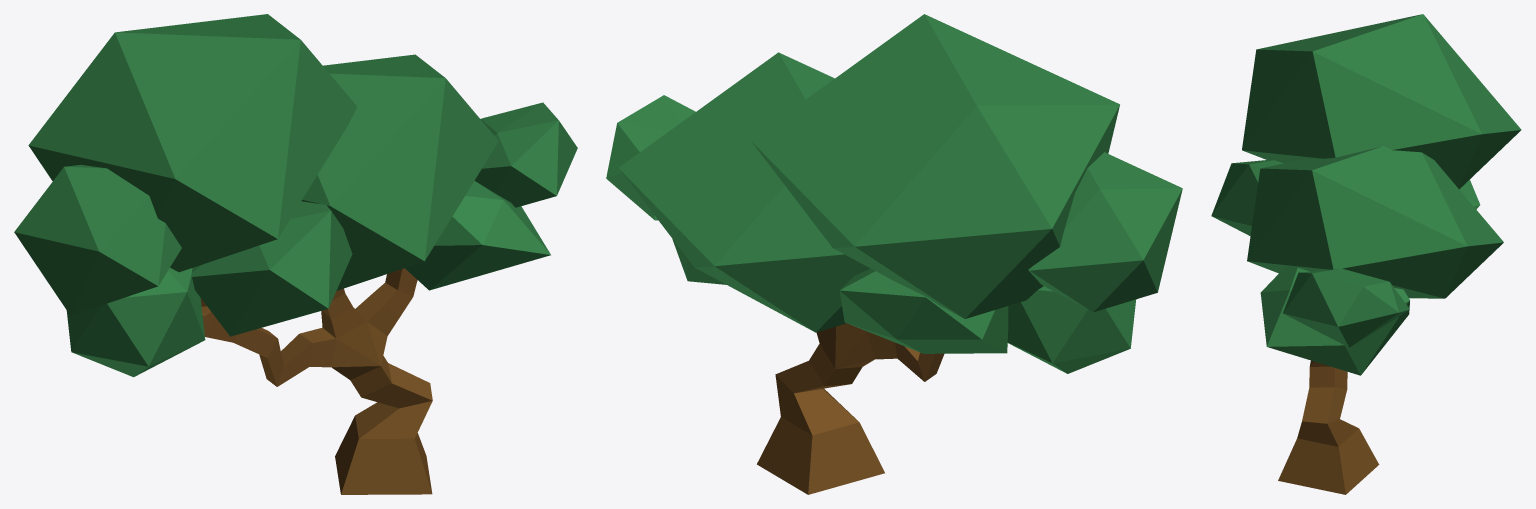
File: Tree1.fbx
3 views of the same model, side by side, from view 1: azimuth 30°, elevation 25°; view 2: azimuth 150°, elevation 25°; view 3: azimuth 270°, elevation 25° (orthographic). The views are drawn at different scales.
Visible parts, largest first — view 1: Tree1; view 2: Tree1; view 3: Tree1.
Part boxes in pixels (bbox=[...]): Tree1: bbox=[14, 14, 577, 494]; Tree1: bbox=[606, 14, 1182, 494]; Tree1: bbox=[1211, 14, 1521, 494].
Bounding box in the file's own units: 913 × 748 × 547.
